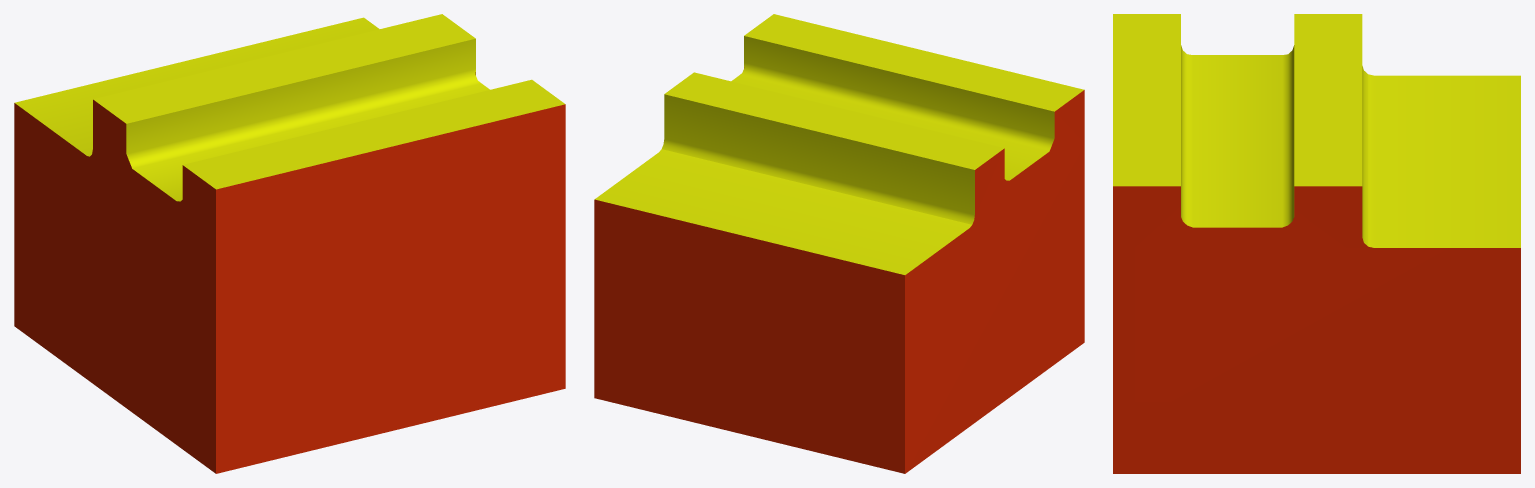
File: Building 1.fbx
The picture shows the model from 3 angles, left to right: view 1: azimuth 30°, elevation 25°; view 2: azimuth 150°, elevation 25°; view 3: azimuth 270°, elevation 25°; orthographic projection. The views are drawn at different scales.
Parts seen in each view (by area): view 1: Plane; view 2: Plane; view 3: Plane.
Boxes of the visible parts, x1,y1,x2,y2 form: Plane: (14,14,565,473); Plane: (594,14,1084,473); Plane: (1113,14,1520,473).
Size of the model in its own units: 1800 by 1400 by 1800.
